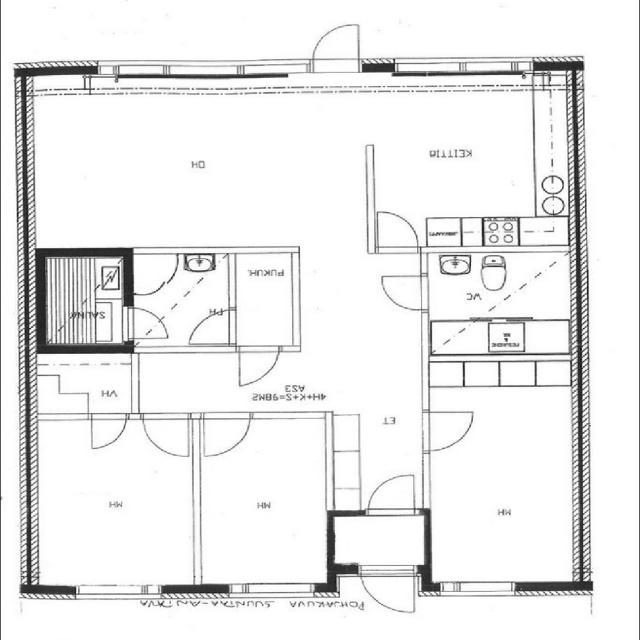door: (86, 411, 183, 456), (354, 562, 420, 616), (306, 19, 366, 78), (358, 468, 424, 520), (139, 410, 194, 462), (373, 268, 432, 316), (418, 405, 477, 453), (367, 207, 425, 255), (229, 342, 287, 390), (198, 410, 253, 460), (182, 306, 235, 348), (121, 304, 173, 344), (84, 409, 128, 454)
window: (426, 576, 522, 602), (70, 580, 165, 606), (222, 578, 322, 601), (82, 70, 124, 92)
zone: (23, 97, 350, 241), (425, 362, 583, 593), (371, 91, 574, 251), (28, 421, 199, 587), (197, 416, 331, 588), (420, 252, 578, 352), (38, 254, 128, 348)
